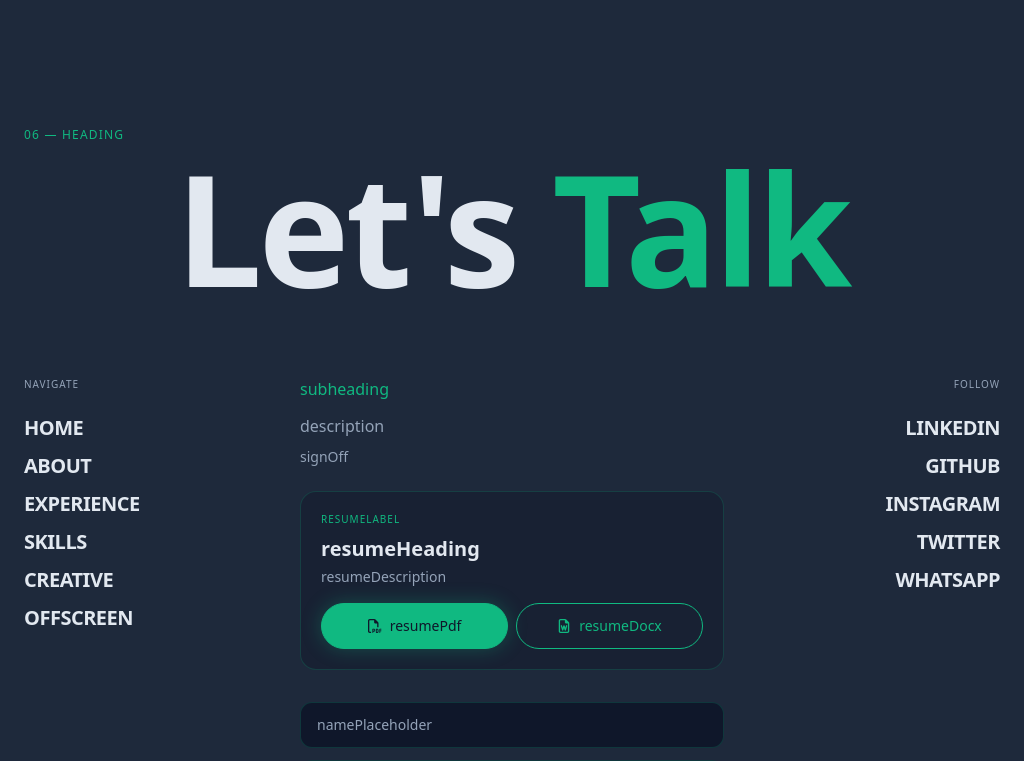
Test: ContactSection › should block the submit when the payload contains injection patterns
This screenshot has width=1024, height=761.
Type "Pato" into the field with test id "contact-input-name".
click(512, 725); type("Pato")  # box [300, 702, 724, 748]
(page scrolled)
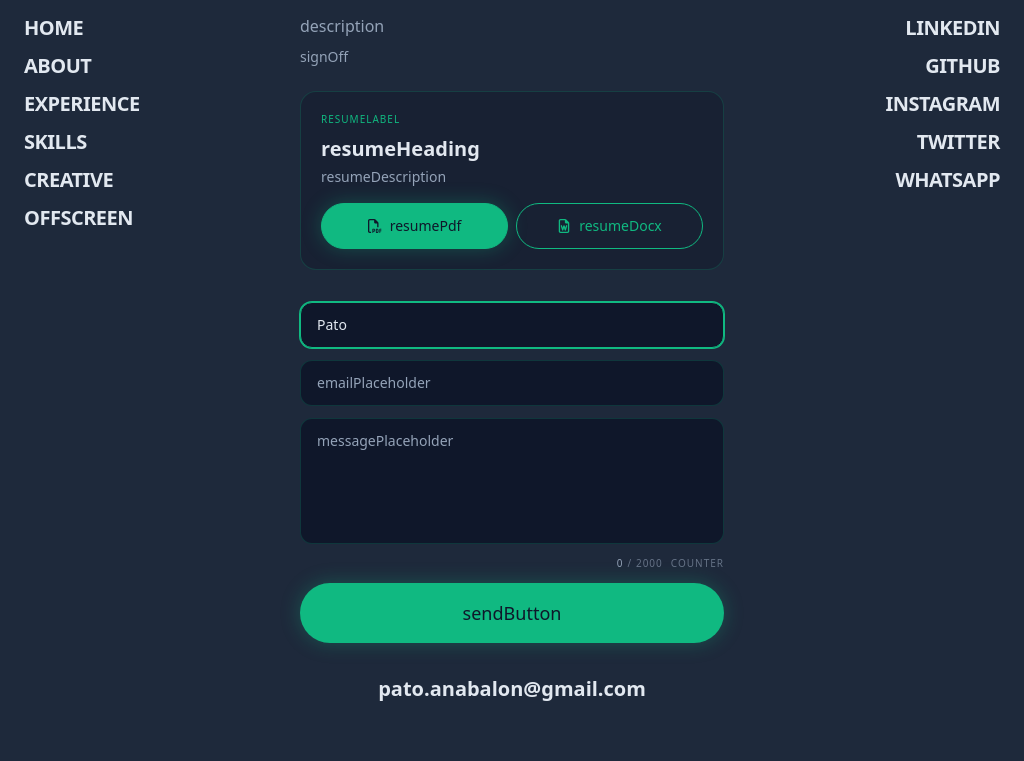
Type "pato@example.com" into the field with test id "contact-input-email".
click(512, 383); type("pato@example.com")  # box [300, 360, 724, 406]
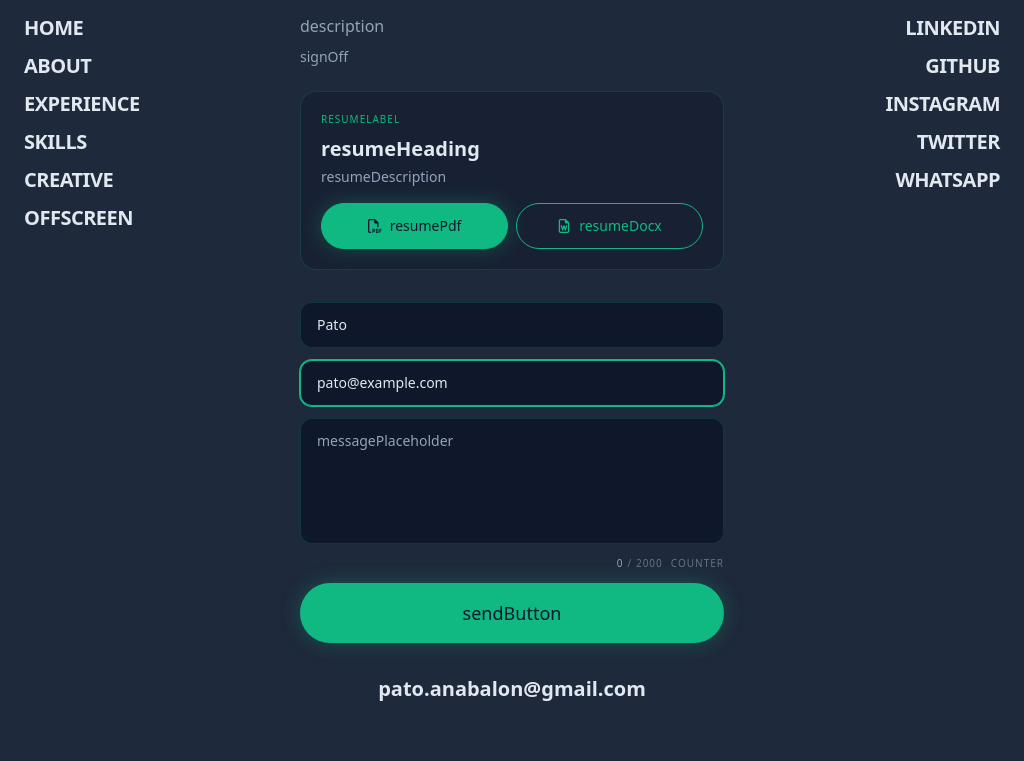
Type "<script>bad()</script>" into the text box with test id "contact-input-message".
click(512, 481); type("<script>bad()</script>")  # box [300, 418, 724, 544]
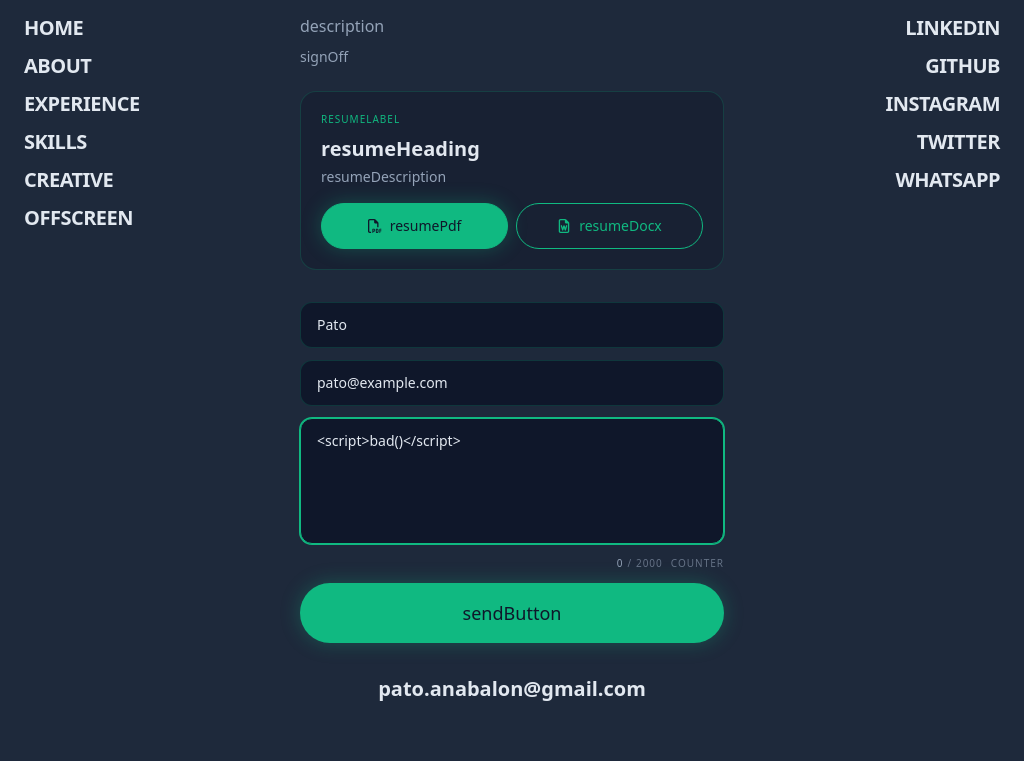
Click the button with test id "contact-submit-button".
click(512, 613)  # box [300, 583, 724, 643]
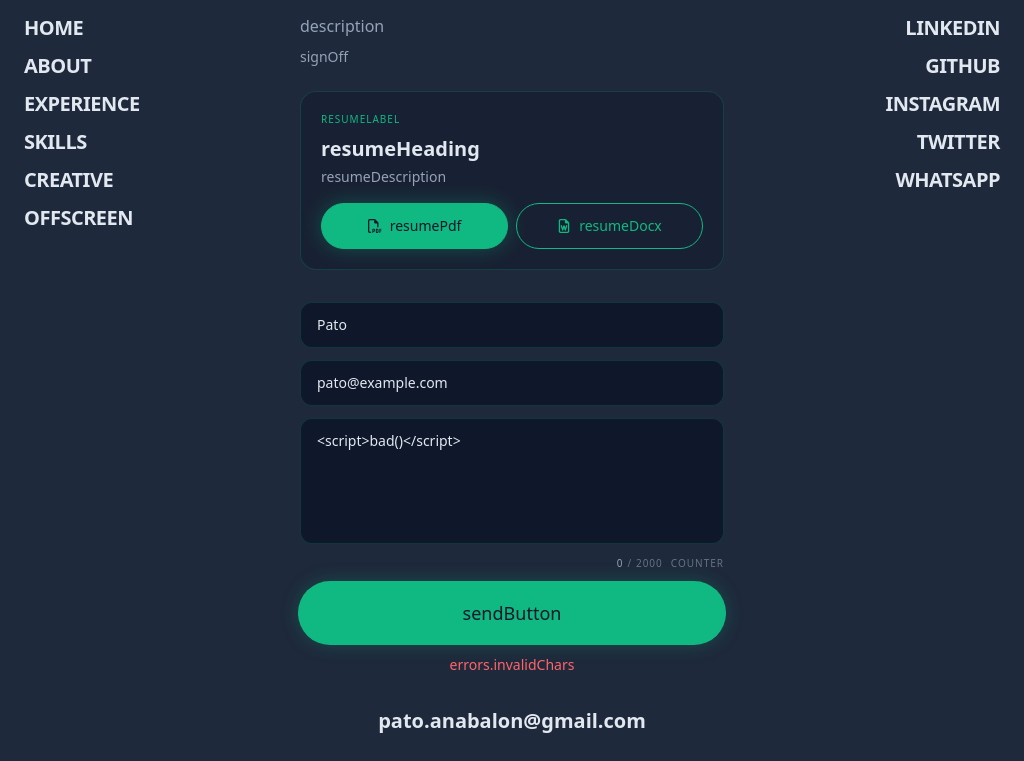
Expected: the text "errors.invalidChars" is shown, [450, 655, 574, 674]
